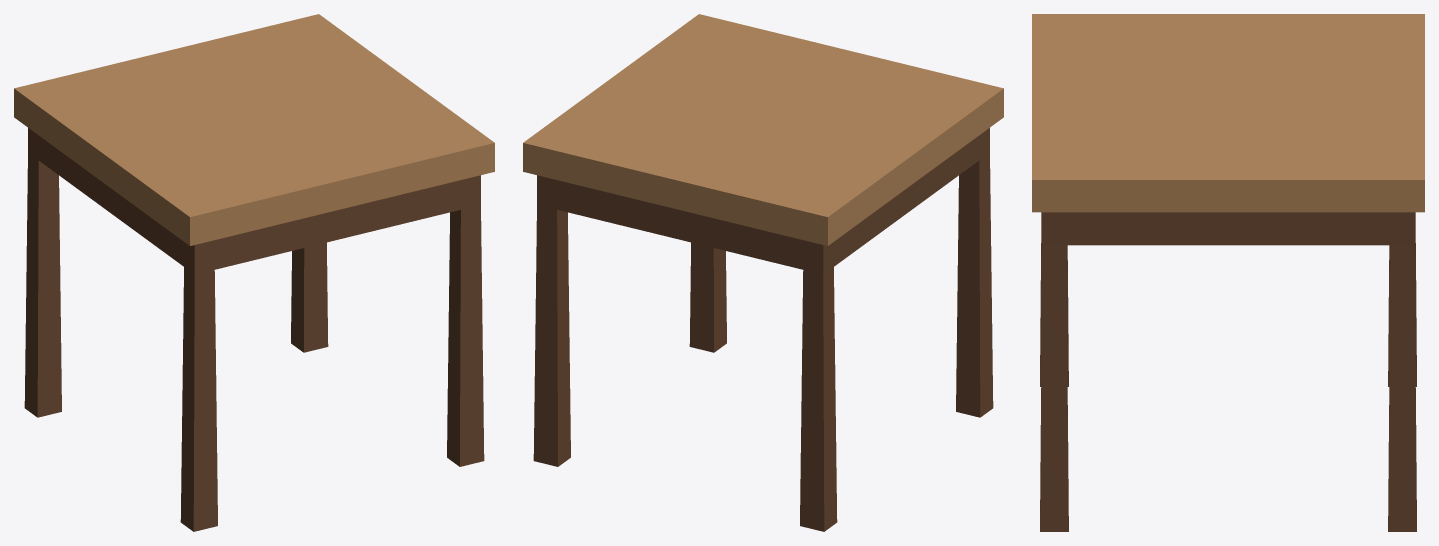
Rendered from qt-table.glb.
3 views of the same model, side by side, from view 1: azimuth 30°, elevation 25°; view 2: azimuth 150°, elevation 25°; view 3: azimuth 270°, elevation 25° (orthographic). The views are drawn at different scales.
Visible parts, largest first — view 1: Table_Cube.001; view 2: Table_Cube.001; view 3: Table_Cube.001.
Boxes of the visible parts, x1,y1,x2,y2 form: Table_Cube.001: [14, 14, 494, 531]; Table_Cube.001: [523, 14, 1003, 531]; Table_Cube.001: [1032, 14, 1424, 531].
Size of the model in its own units: 1 by 1 by 1.
